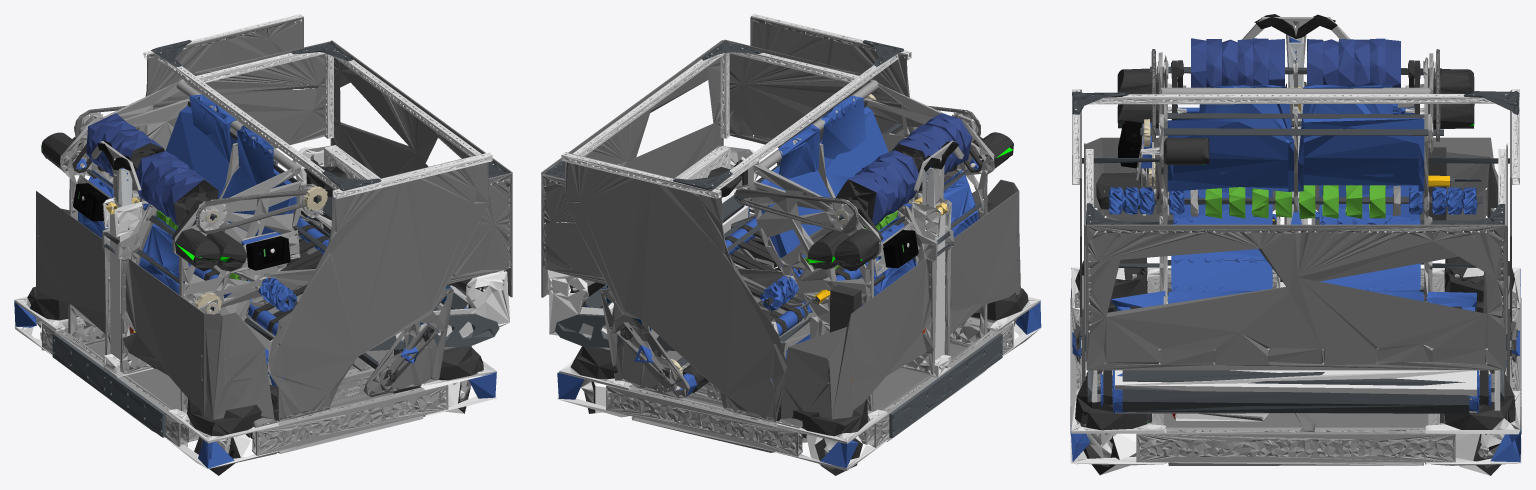
3 renders of one model, left to right at view 1: azimuth 30°, elevation 25°; view 2: azimuth 150°, elevation 25°; view 3: azimuth 270°, elevation 25°, orthographic. The views are drawn at different scales.
Visible parts, largest first — view 1: body.mat_0, body.mat_21, intake.mat_0, body.mat_4, body.mat_1, intake.mat_31, body.mat_31, body.mat_34, body.mat_23, body.mat_28, body.mat_37, body.mat_32 (+7 smaller); view 2: body.mat_0, body.mat_21, intake.mat_0, body.mat_4, body.mat_1, intake.mat_31, body.mat_31, body.mat_23, body.mat_34, body.mat_28, body.mat_32, body.mat_2 (+7 smaller); view 3: intake.mat_0, body.mat_1, body.mat_4, body.mat_21, intake.mat_28, body.mat_0, intake.mat_31, body.mat_28, body.mat_31, body.mat_2, body.mat_34, body.mat_27 (+10 smaller).
Part boxes in pixels (<box>): body.mat_0: <box>36,17,488,431</box>; body.mat_21: <box>42,79,448,455</box>; intake.mat_0: <box>109,40,512,334</box>; body.mat_4: <box>14,113,496,475</box>; body.mat_1: <box>14,94,496,468</box>; intake.mat_31: <box>144,50,510,339</box>; body.mat_31: <box>102,14,492,377</box>; body.mat_34: <box>74,99,439,386</box>; body.mat_23: <box>52,327,165,437</box>; body.mat_28: <box>76,40,431,380</box>; body.mat_37: <box>73,183,290,270</box>; body.mat_32: <box>72,143,329,334</box>; body.mat_0: <box>565,16,1020,442</box>; body.mat_21: <box>606,80,1013,456</box>; intake.mat_0: <box>541,39,893,347</box>; body.mat_4: <box>559,113,1040,475</box>; body.mat_1: <box>557,95,1041,468</box>; intake.mat_31: <box>544,45,915,338</box>; body.mat_31: <box>561,14,951,377</box>; body.mat_23: <box>800,289,1002,438</box>; body.mat_34: <box>616,99,980,389</box>; body.mat_28: <box>622,40,981,379</box>; body.mat_32: <box>725,146,982,335</box>; body.mat_2: <box>557,268,1041,470</box>; intake.mat_0: <box>1084,143,1507,370</box>; body.mat_1: <box>1071,37,1520,462</box>; body.mat_4: <box>1071,38,1520,475</box>; body.mat_21: <box>1070,52,1521,465</box>; intake.mat_28: <box>1086,203,1505,413</box>; body.mat_0: <box>1075,89,1517,449</box>; intake.mat_31: <box>1085,149,1506,413</box>; body.mat_28: <box>1072,66,1519,356</box>; body.mat_31: <box>1072,89,1519,303</box>; body.mat_2: <box>1070,319,1521,465</box>; body.mat_34: <box>1075,49,1516,364</box>; body.mat_27: <box>1254,14,1337,38</box>.
Bounding box in the file's own units: 0.6897 × 0.5596 × 0.7366.
